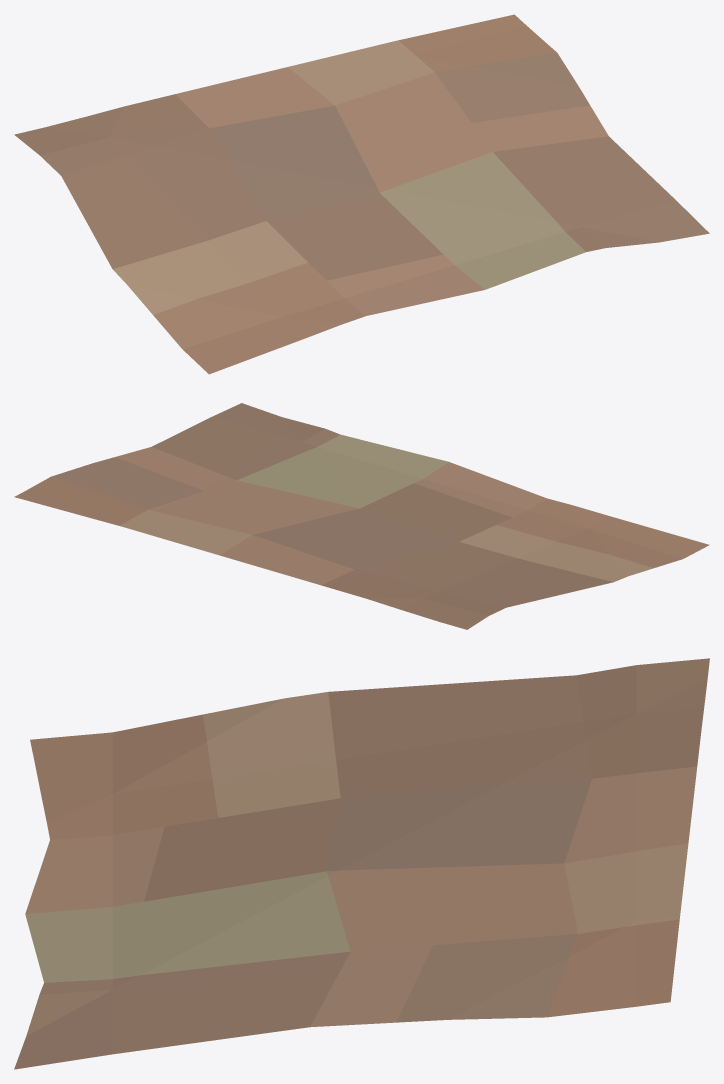
File: farm_6_37_soil.glb
3 views of the same model, one above another, from view 1: azimuth 30°, elevation 25°; view 2: azimuth 150°, elevation 25°; view 3: azimuth 270°, elevation 25° (orthographic). The views are drawn at different scales.
Parts seen in each view (by area): view 1: geometry_0; view 2: geometry_0; view 3: geometry_0.
Part boxes in pixels (<box>): geometry_0: <box>14,14,709,374</box>; geometry_0: <box>14,403,709,629</box>; geometry_0: <box>14,658,709,1069</box>.
Bounding box in the file's own units: 139 × 20.13 × 106.
